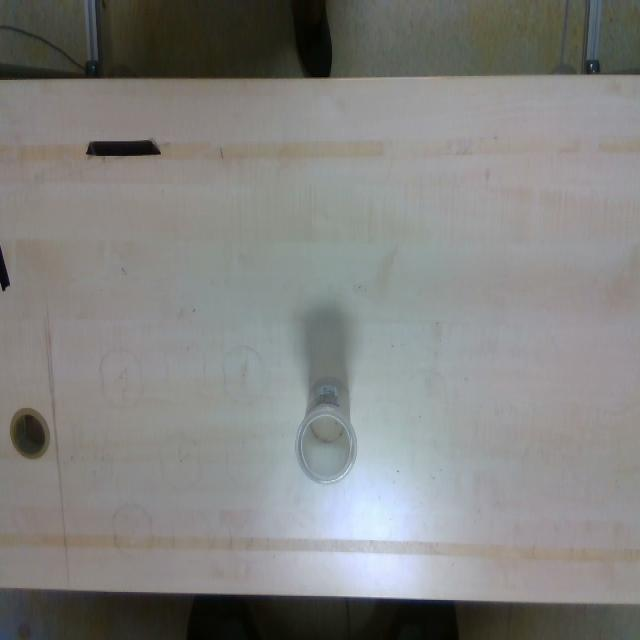cups: (295, 374, 359, 485)
